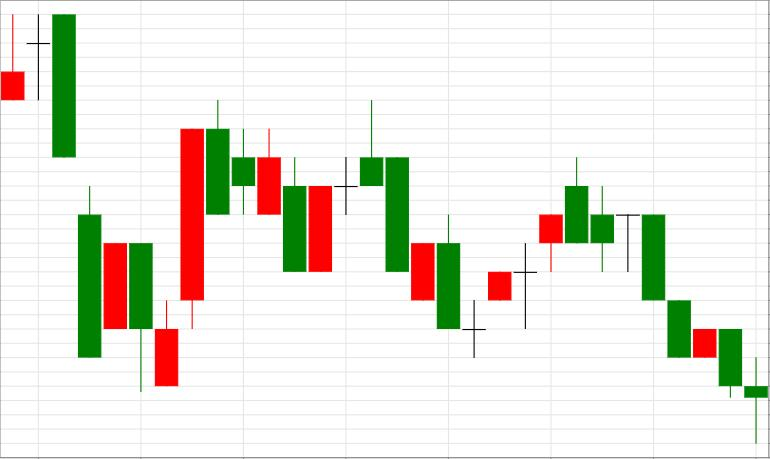morning_star_rise: (361, 99, 511, 358)
